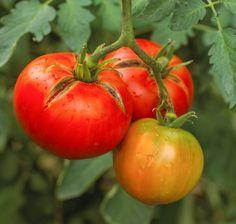healthy-tomato: (106, 38, 196, 126)
